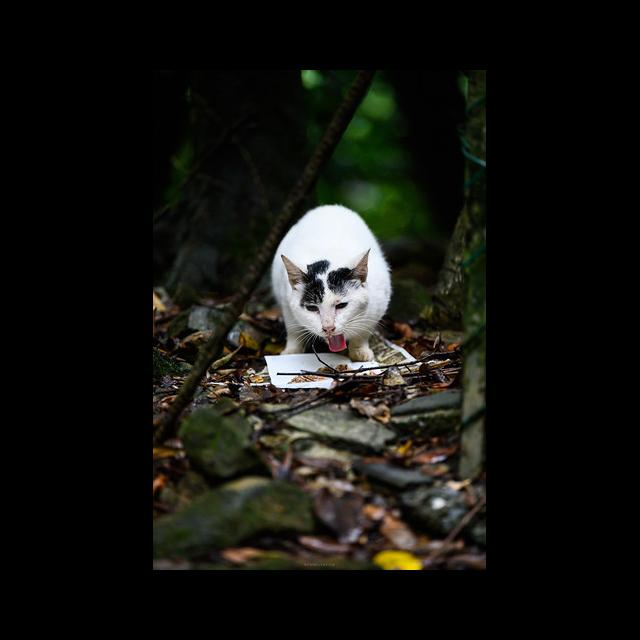animals: (272, 204, 392, 361)
